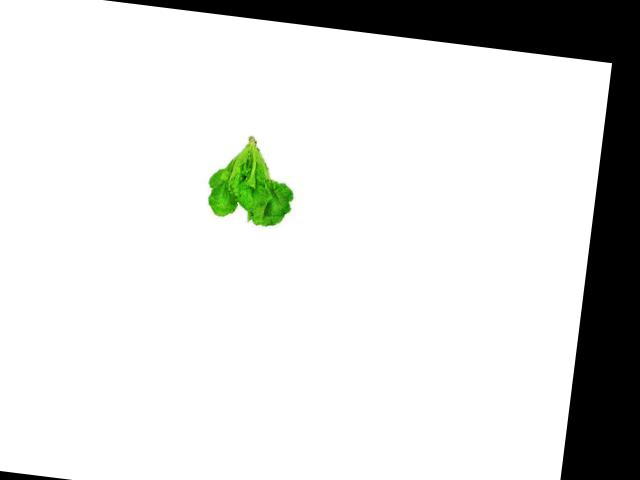lettuce: (200, 129, 304, 235)
